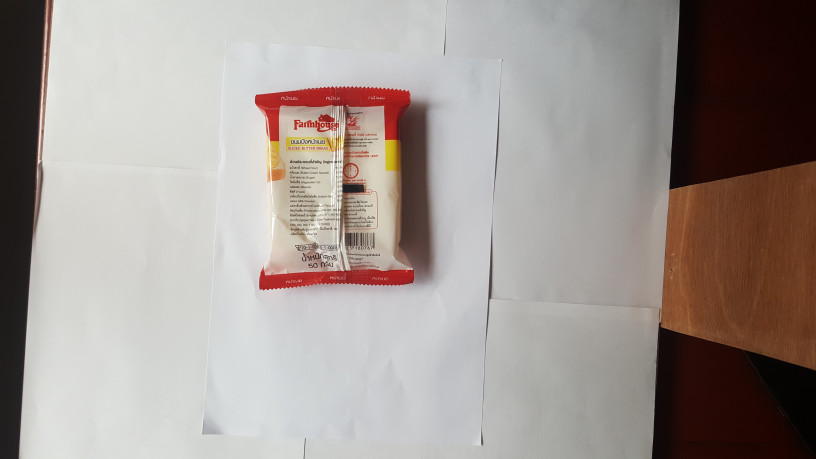farmhouse-bread-butter: (248, 81, 420, 296)
